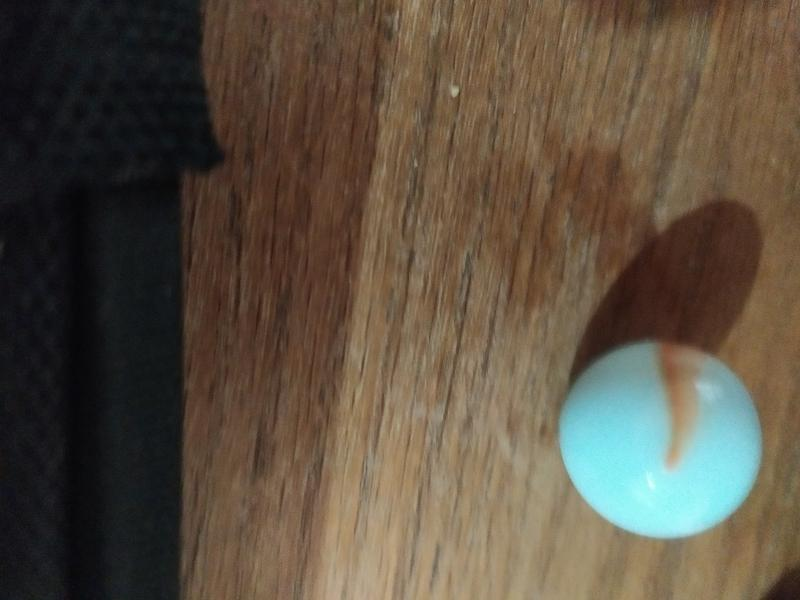Warning: (552, 333, 769, 543)
